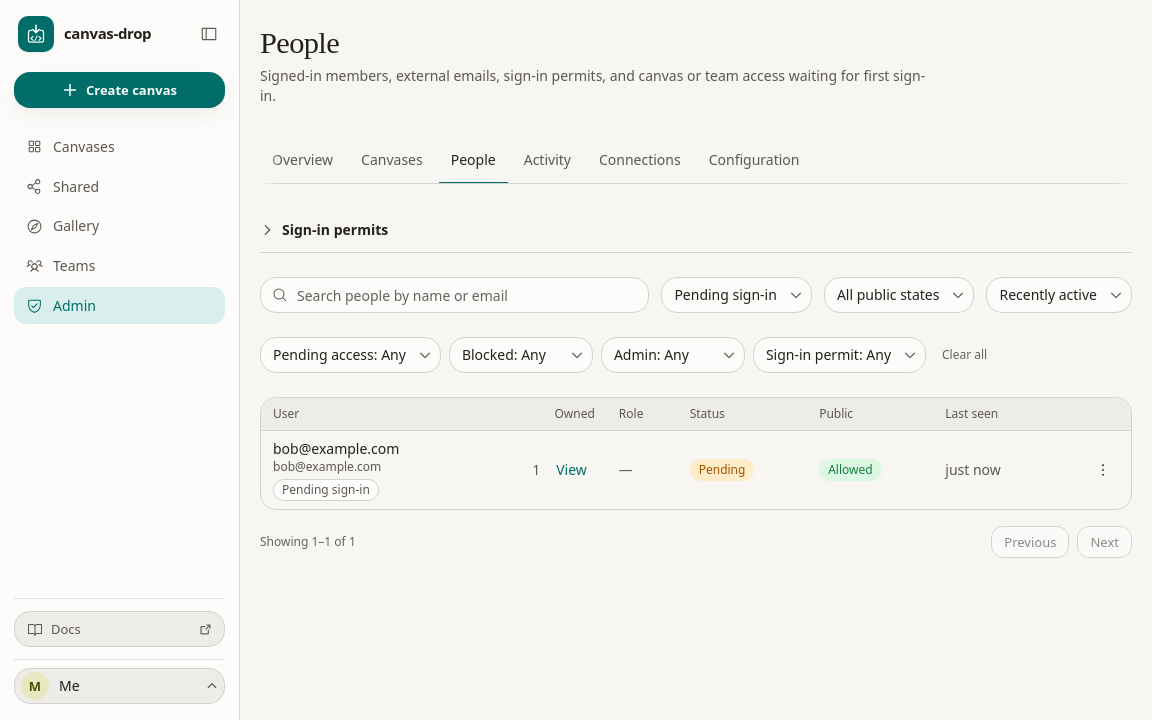
Test: admin users › requires confirmation and keeps pending-only results visible after the person leaves the directory
Click the button named "Actions for bob@example.com".
click(1103, 470)  # box [1087, 454, 1119, 486]
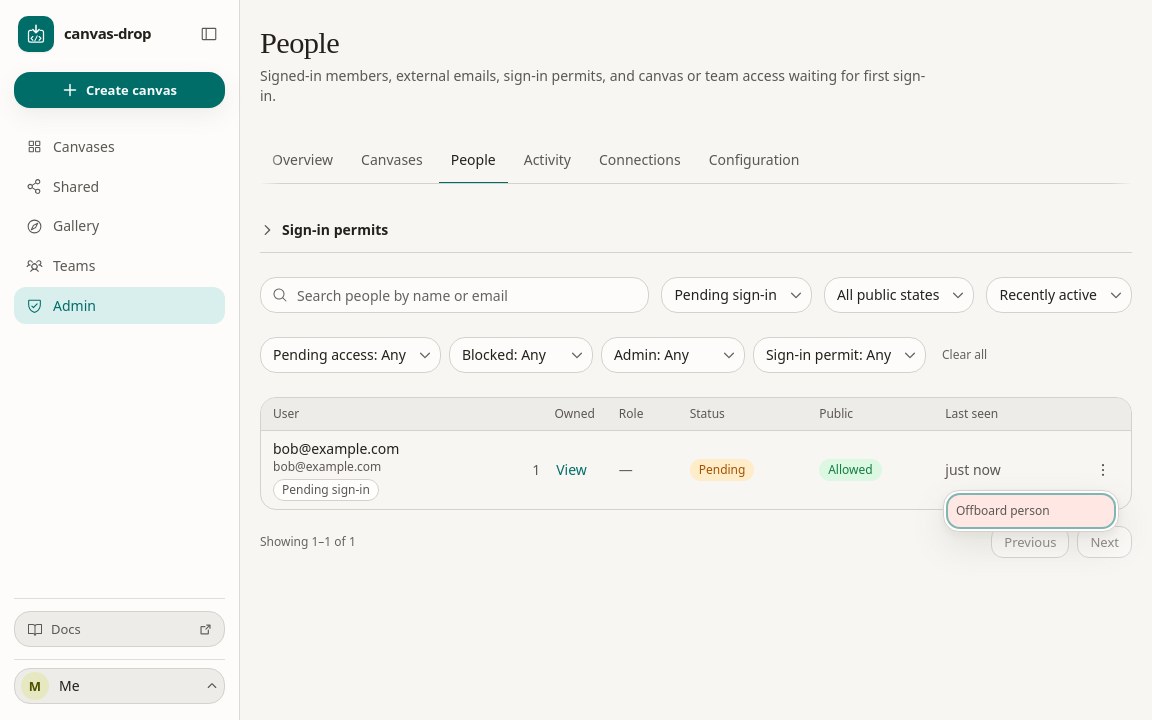
Click the menu item "Offboard person".
click(1031, 511)  # box [948, 495, 1114, 527]
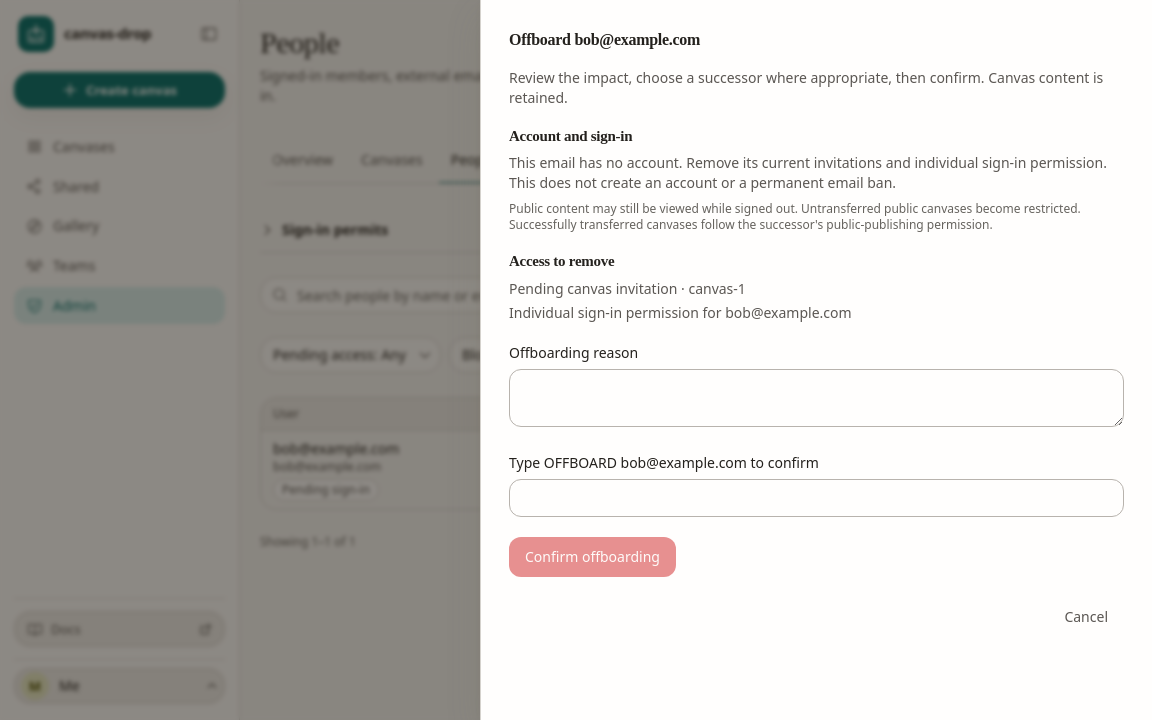
Expected: the button "Confirm offboarding" is disabled, [509, 537, 676, 577]
Expected: the text "does not create an account or a permanent email ban" is shown, [509, 153, 1107, 192]
Type "Invitation withdrawn" into the text box labelled "Offboarding reason".
click(816, 398); type("Invitation withdrawn")  # box [509, 368, 1124, 426]
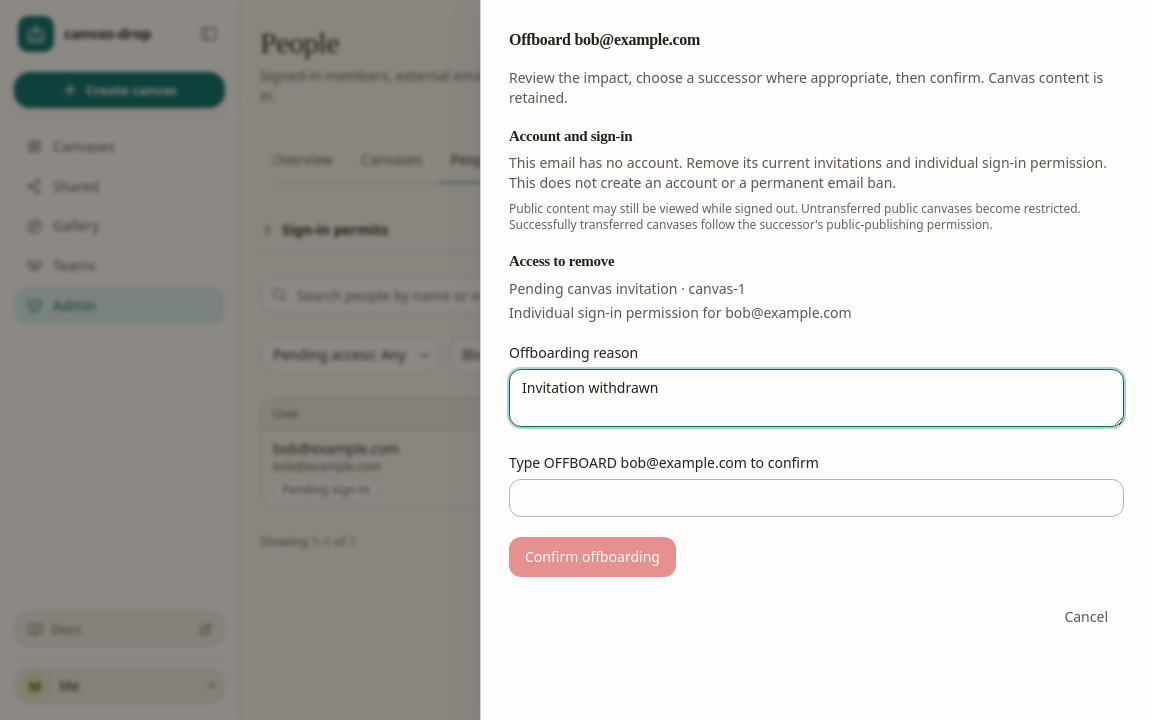
Type "OFFBOARD bob@example.com" into the field labelled "Type OFFBOARD bob@example.com to confirm".
click(816, 498); type("OFFBOARD bob@example.com")  # box [509, 479, 1124, 517]
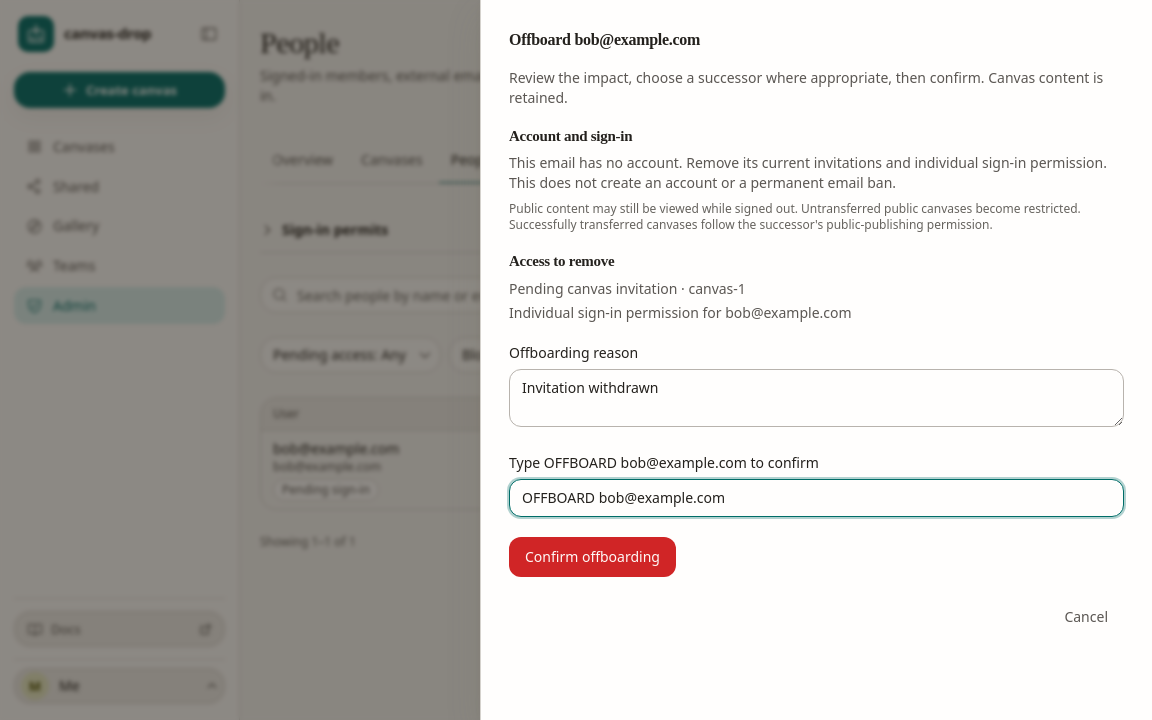
Click the button "Confirm offboarding".
click(592, 557)  # box [509, 537, 676, 577]
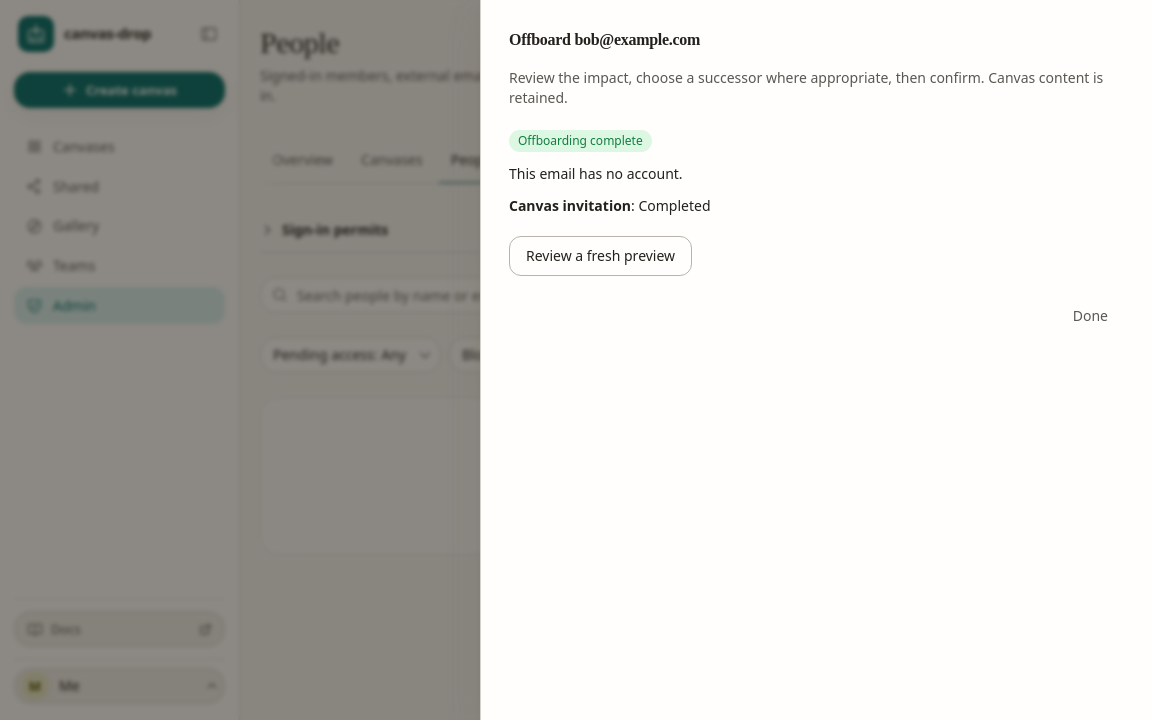
Expected: the dialog is shown, [480, 0, 1151, 719]
Expected: the text "Offboarding complete" is shown, [509, 130, 652, 152]
Expected: the table is gone
